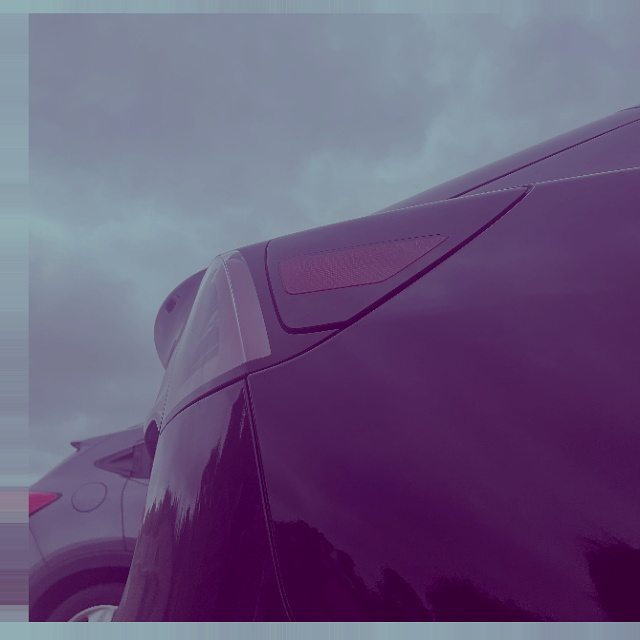reflector: (277, 234, 448, 293)
